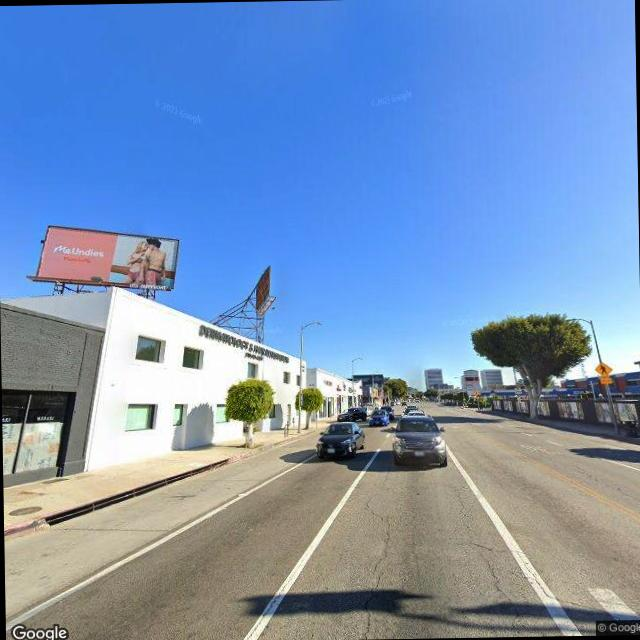crack: (349, 487, 396, 638), (466, 536, 524, 630)
